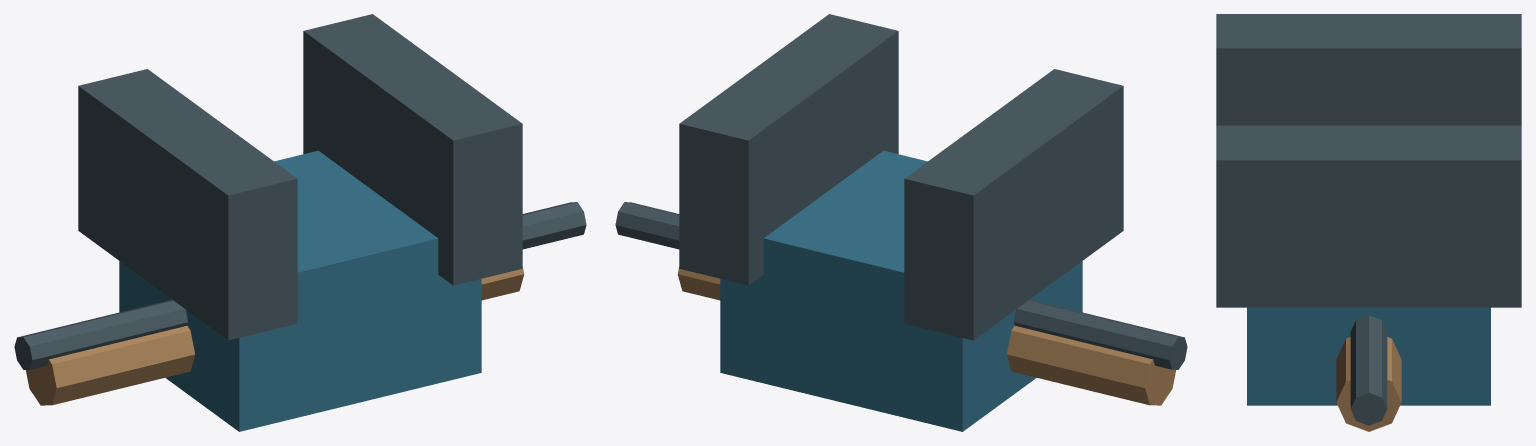
The model's file is set_bench_vice.glb.
3 views of the same model, side by side, from view 1: azimuth 30°, elevation 25°; view 2: azimuth 150°, elevation 25°; view 3: azimuth 270°, elevation 25° (orthographic).
Parts seen in each view (by area): view 1: set_bench_vice; view 2: set_bench_vice; view 3: set_bench_vice.
Part boxes in pixels (x1=…): set_bench_vice: x1=14, y1=14, x2=586, y2=431; set_bench_vice: x1=615, y1=14, x2=1187, y2=431; set_bench_vice: x1=1216, y1=14, x2=1521, y2=431.
Bounding box in the file's own units: 0.32 × 0.14 × 0.15.
